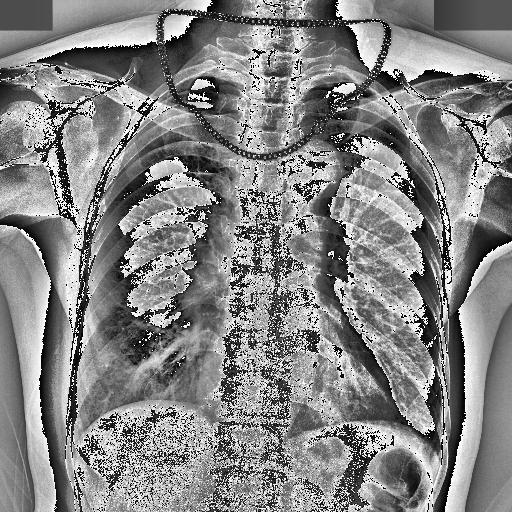0- Aortic enlargement: (280, 136, 344, 212), (287, 140, 343, 218), (276, 137, 344, 190)
11- Pleural thickening: (312, 78, 344, 90), (200, 76, 225, 84)
13- Pulmonary fibrosis: (132, 327, 208, 397)
3- Cardiomegaly: (196, 352, 400, 420), (196, 382, 398, 450), (194, 370, 398, 436)
